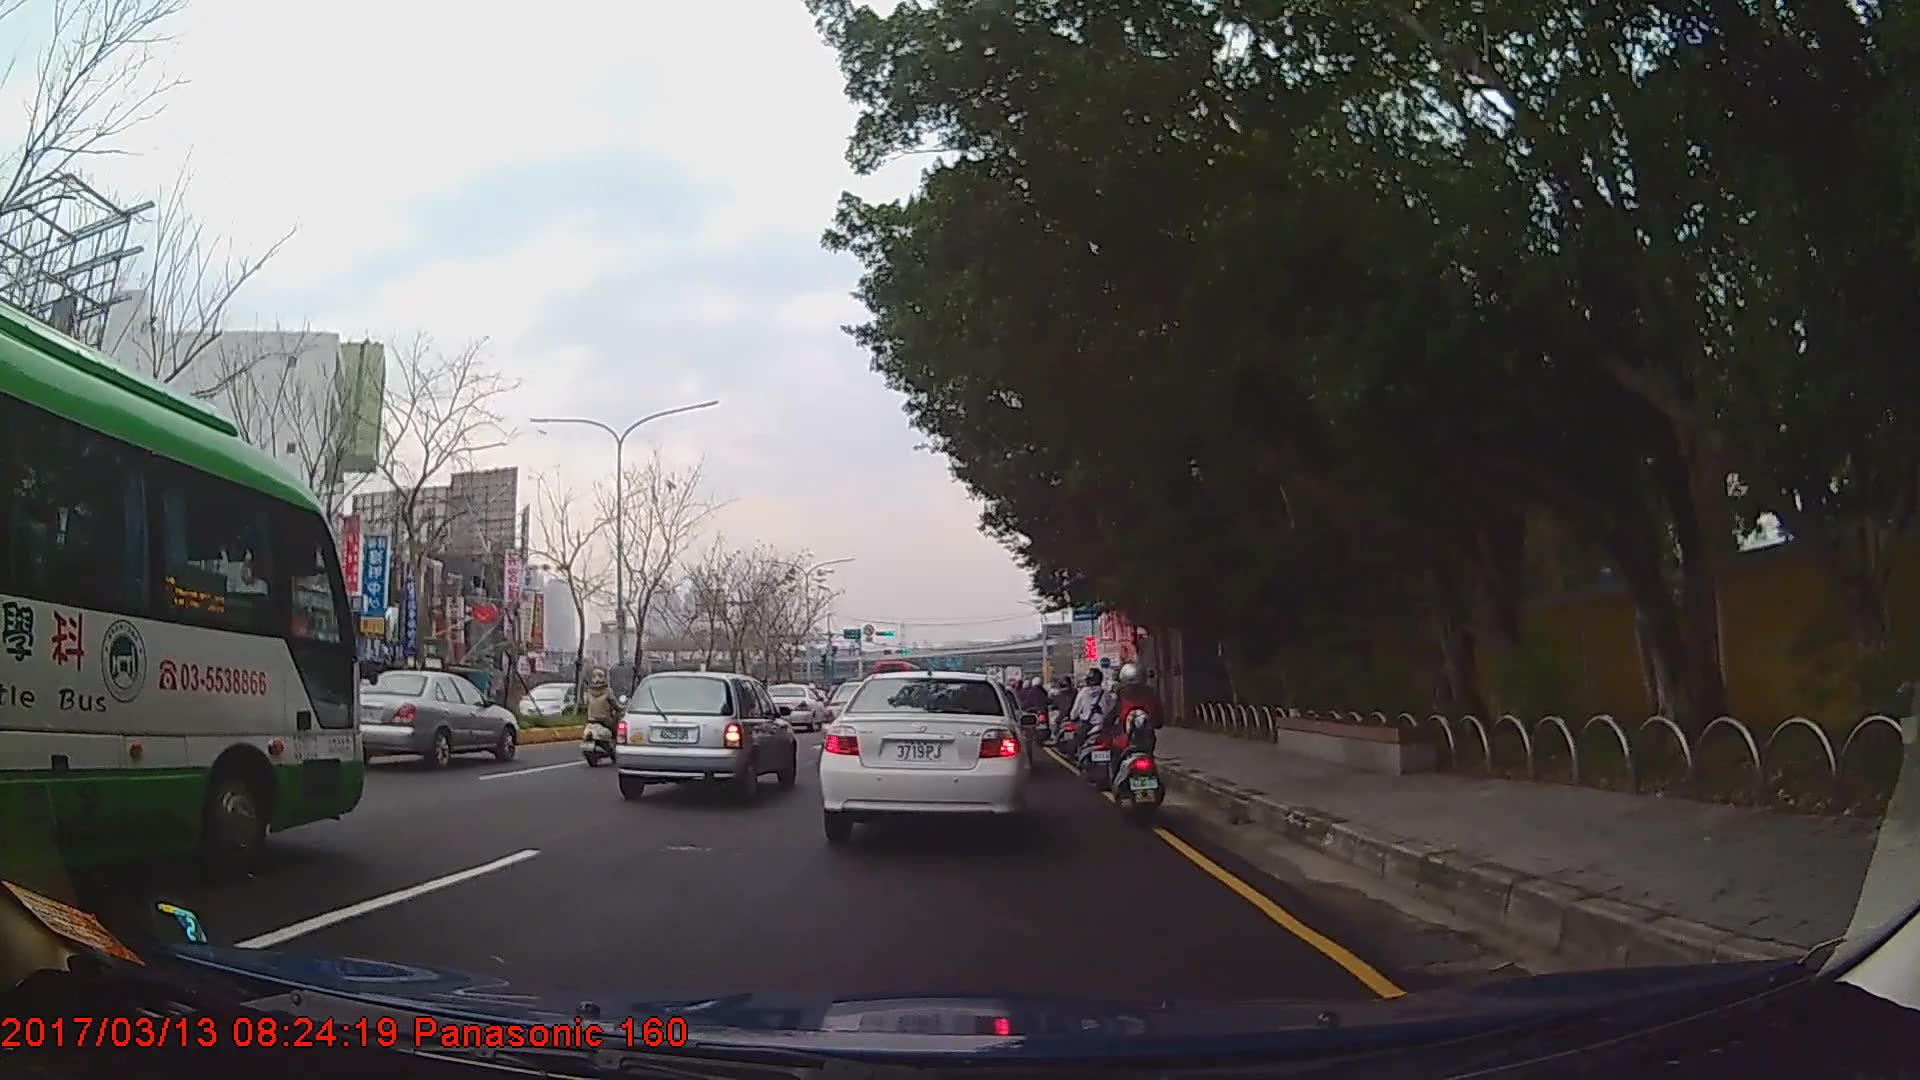rider: (1104, 661, 1164, 820), (1069, 669, 1115, 782), (588, 671, 626, 771), (1053, 678, 1081, 748)
vehicle: (0, 297, 363, 887), (819, 671, 1031, 849), (614, 671, 794, 801), (345, 669, 517, 767), (517, 682, 590, 730), (765, 682, 821, 728)
